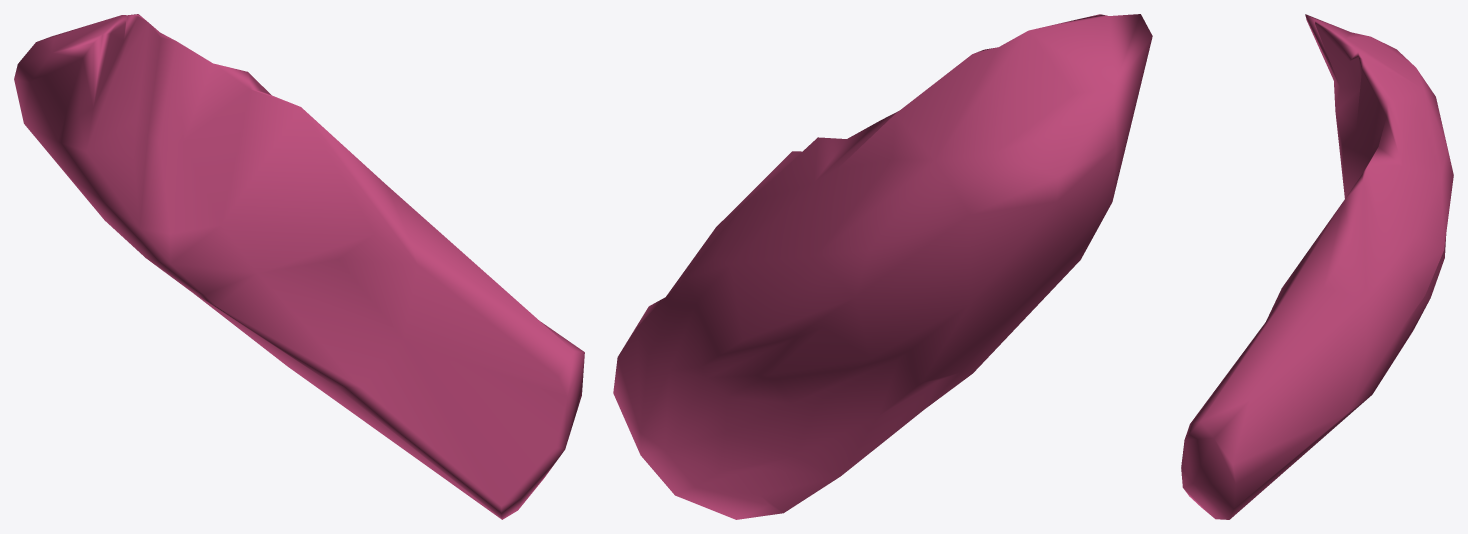
3 views of the same model, side by side, from view 1: azimuth 30°, elevation 25°; view 2: azimuth 150°, elevation 25°; view 3: azimuth 270°, elevation 25° (orthographic). The views are drawn at different scales.
Parts seen in each view (by area): view 1: 右侧翼外肌上头; view 2: 右侧翼外肌上头; view 3: 右侧翼外肌上头.
Part boxes in pixels (x1,y1,x2,y2): 右侧翼外肌上头: (14, 14, 584, 519); 右侧翼外肌上头: (613, 14, 1152, 519); 右侧翼外肌上头: (1181, 14, 1453, 519).
Bounding box in the file's own units: 0.0313 × 0.033 × 0.0217.
